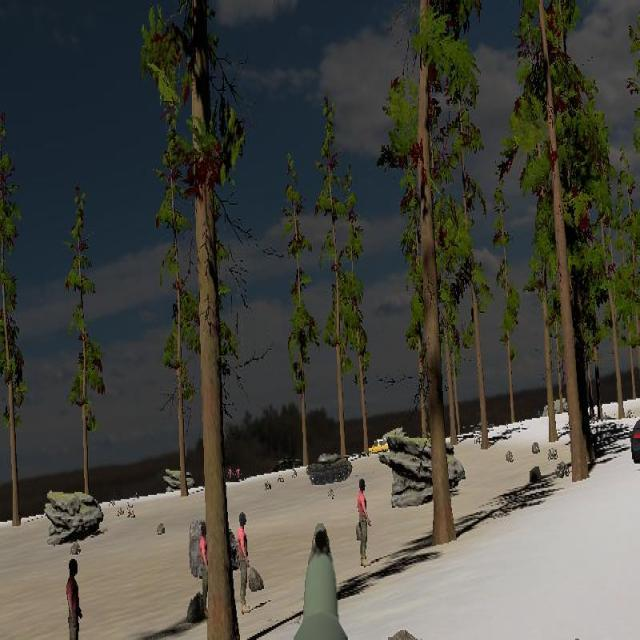Human: (357, 478, 370, 566)
Tank: (307, 451, 360, 486)
car: (630, 418, 640, 467)
